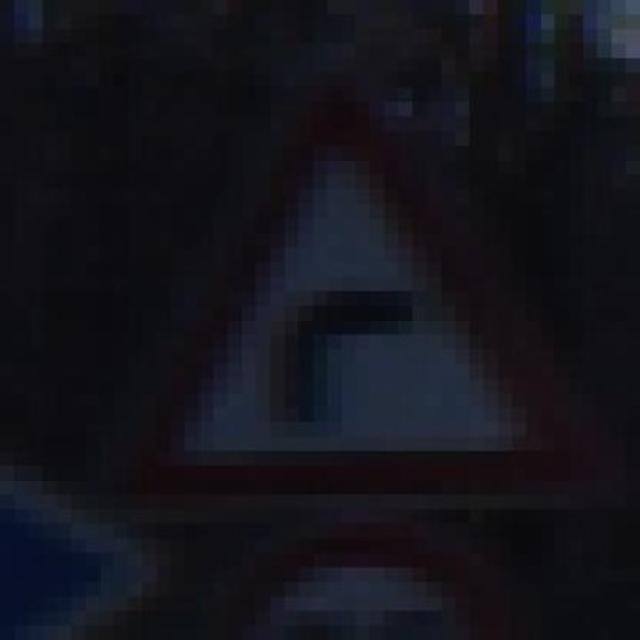Dangerous Rright Curve Ahead: (99, 88, 584, 538)
